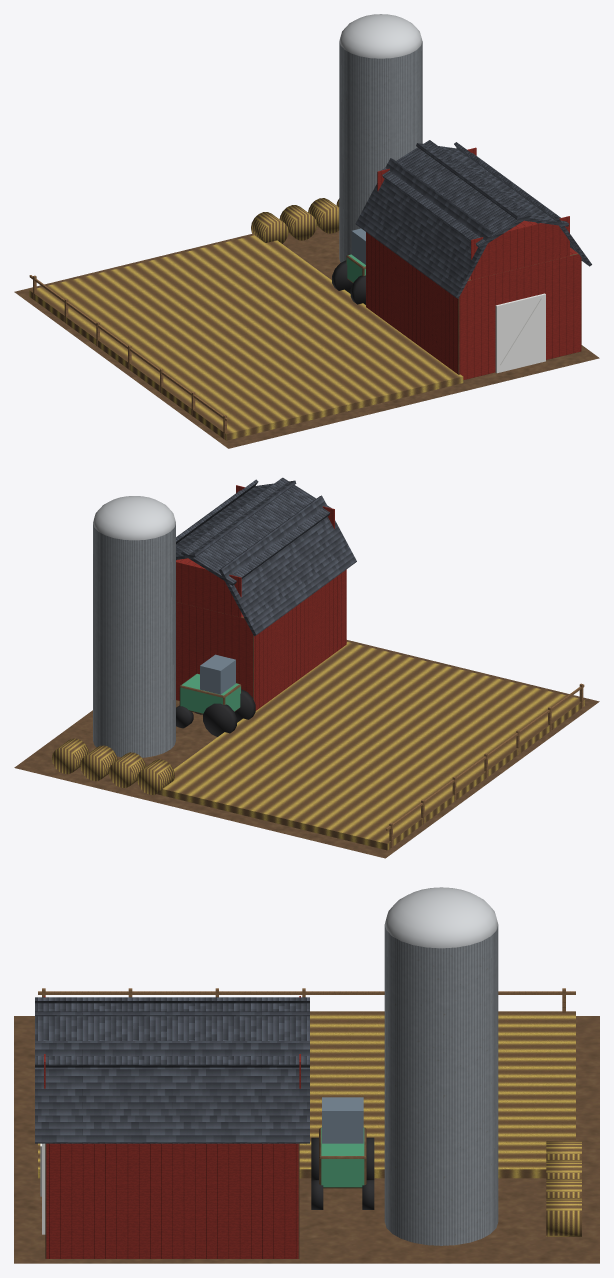
Rendered from farm_0.gltf.
The picture shows the model from 3 angles, top to bottom: view 1: azimuth 30°, elevation 25°; view 2: azimuth 150°, elevation 25°; view 3: azimuth 270°, elevation 25°; orthographic projection. The views are drawn at different scales.
Visible parts, largest first — view 1: farm_0; view 2: farm_0; view 3: farm_0.
Part boxes in pixels (<box>): farm_0: <box>14,14,599,448</box>; farm_0: <box>14,477,599,858</box>; farm_0: <box>14,887,599,1263</box>.
Bounding box in the file's own units: 3.92 × 2.41 × 3.92.
12 materials, 8 textured.
